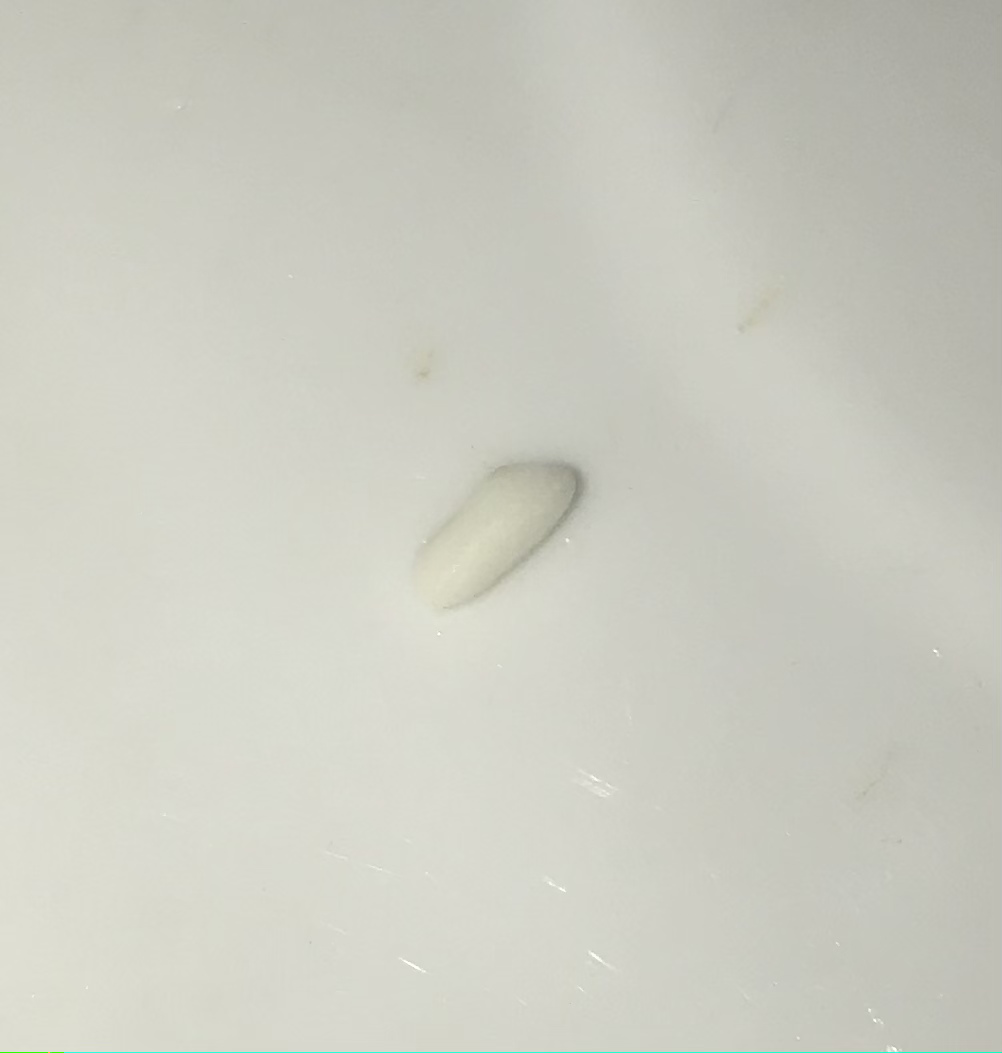Gao Nep Sap: (402, 442, 593, 639)
